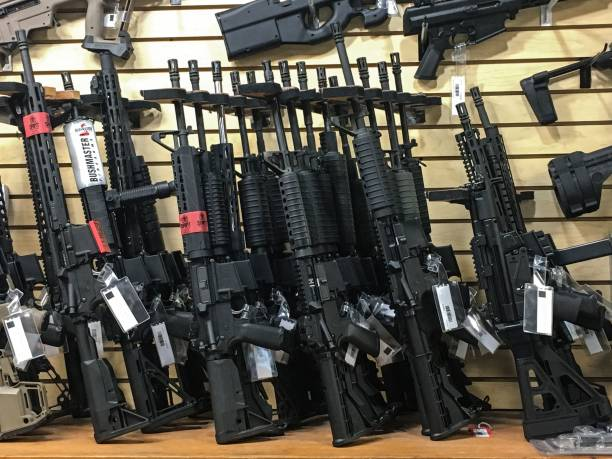rifle: (323, 35, 470, 444), (146, 57, 284, 454), (250, 55, 383, 452), (450, 100, 596, 459), (11, 26, 131, 448)
